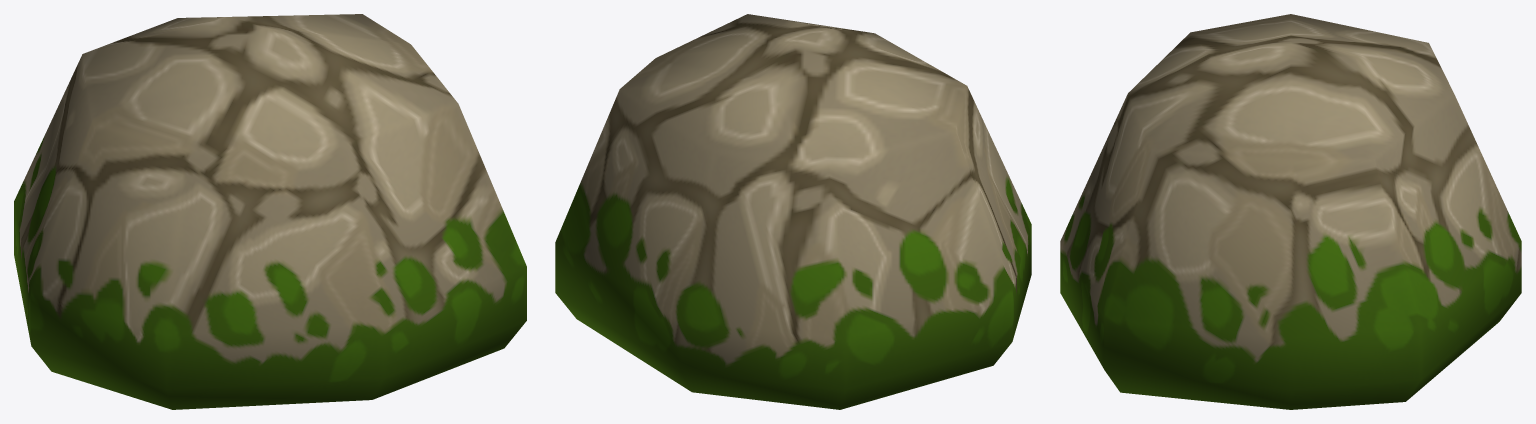
The model's file is Rock_02.FBX.
The picture shows the model from 3 angles, left to right: view 1: azimuth 30°, elevation 25°; view 2: azimuth 150°, elevation 25°; view 3: azimuth 270°, elevation 25°; orthographic projection. The views are drawn at different scales.
Visible parts, largest first — view 1: Rock_02; view 2: Rock_02; view 3: Rock_02.
Boxes of the visible parts, left/top/right/bottom form: Rock_02: left=14, top=14, right=526, bottom=409; Rock_02: left=555, top=14, right=1031, bottom=409; Rock_02: left=1060, top=14, right=1521, bottom=409.
Size of the model in its own units: 41.03 by 25.9 by 38.95.
